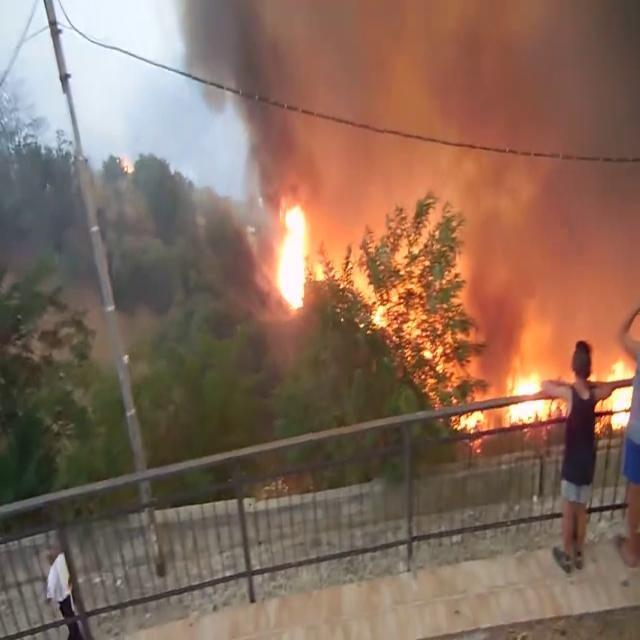Fire: (348, 200, 464, 380), (460, 354, 564, 434), (268, 196, 319, 312), (594, 352, 638, 433)
Smoke: (180, 1, 640, 215), (456, 1, 640, 315)
